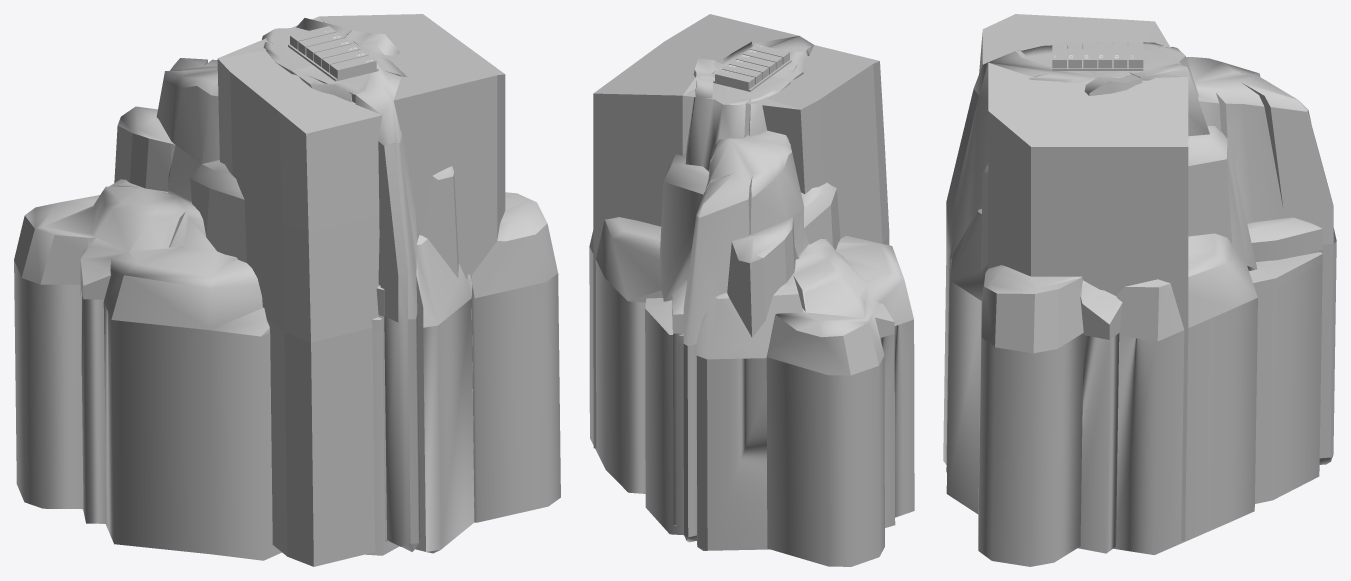
File: platformwithstone.fbx
3 renders of one model, left to right at view 1: azimuth 30°, elevation 25°; view 2: azimuth 150°, elevation 25°; view 3: azimuth 270°, elevation 25°, orthographic. The views are drawn at different scales.
Visible parts, largest first — view 1: Cube.003, Cube.010; view 2: Cube.003, Cube.010; view 3: Cube.003, Cube.010.
Part boxes in pixels (bbox=[...]): Cube.003: bbox=[14, 14, 560, 566]; Cube.010: bbox=[288, 26, 378, 81]; Cube.003: bbox=[589, 14, 914, 566]; Cube.010: bbox=[713, 44, 791, 91]; Cube.003: bbox=[943, 14, 1336, 566]; Cube.010: bbox=[1052, 41, 1143, 70].
Size of the model in its own units: 3270 by 3489 by 2825.
